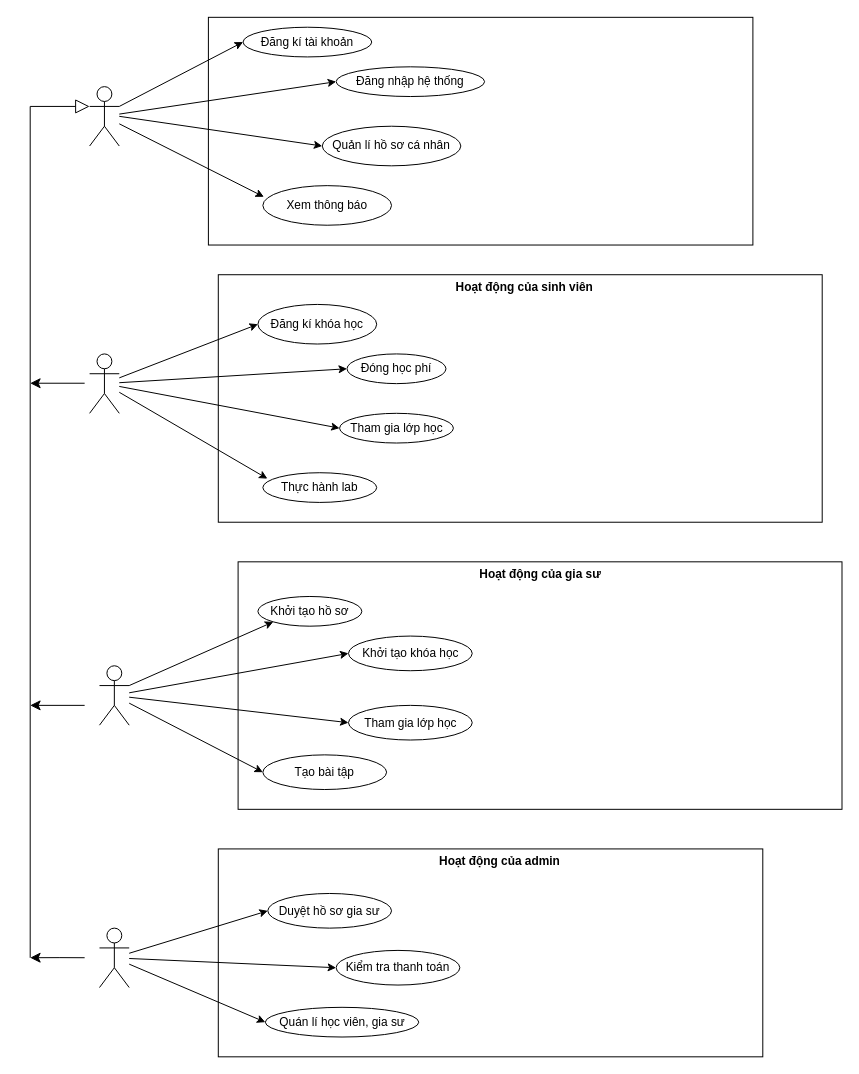
Some shapes in this 859 by 1074 pixel diagram are drawn without their labels. Each missing label, with the centre of its shape:
Admin: (x=114, y=957)
Gia sư: (x=114, y=695)
Học viên: (x=104, y=383)
User: (x=104, y=116)
